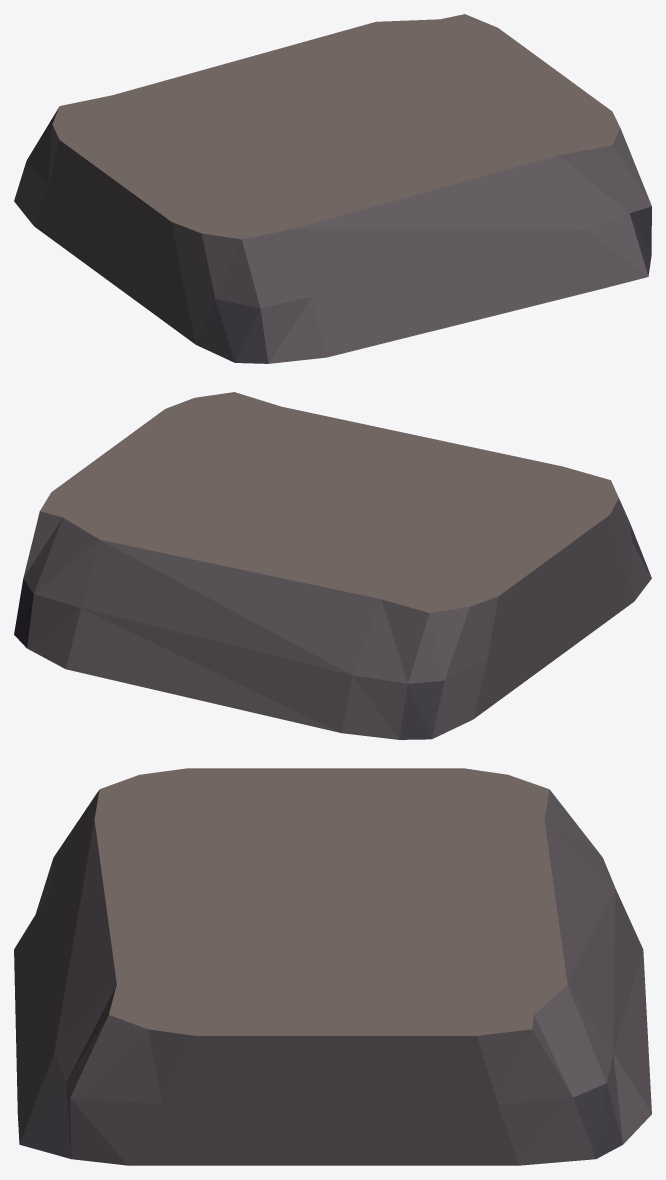
The model's file is rock_ledge.fbx.
3 views of the same model, one above another, from view 1: azimuth 30°, elevation 25°; view 2: azimuth 150°, elevation 25°; view 3: azimuth 270°, elevation 25° (orthographic). The views are drawn at different scales.
Visible parts, largest first — view 1: rock_ledge; view 2: rock_ledge; view 3: rock_ledge.
Part boxes in pixels (x1,y1,x2,y2): rock_ledge: (14,14,651,363); rock_ledge: (14,392,651,739); rock_ledge: (14,768,651,1165).
Size of the model in its own units: 3.98 by 0.9 by 4.01.
